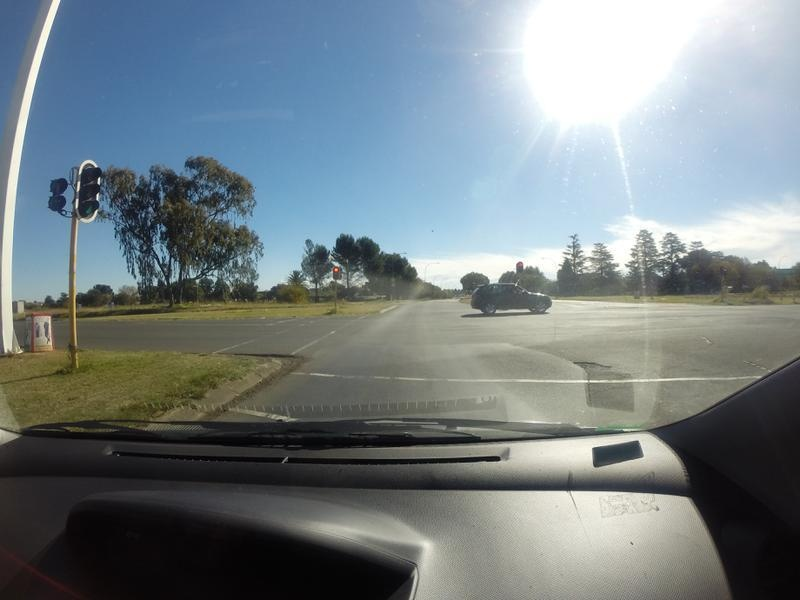pothole: (568, 354, 617, 375)
